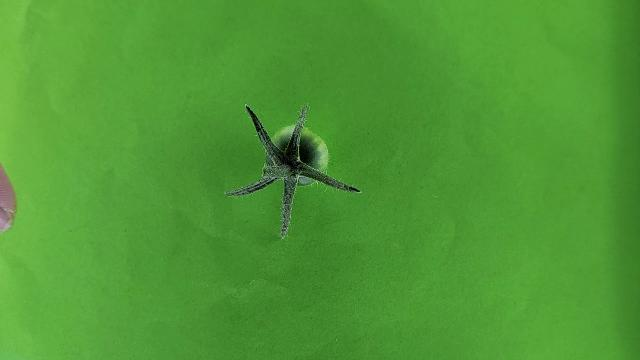Fruit Maturation: (269, 123, 330, 185)
